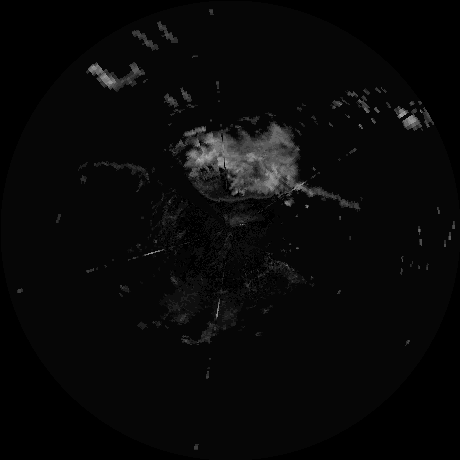frontgust: (185, 176, 267, 202)
